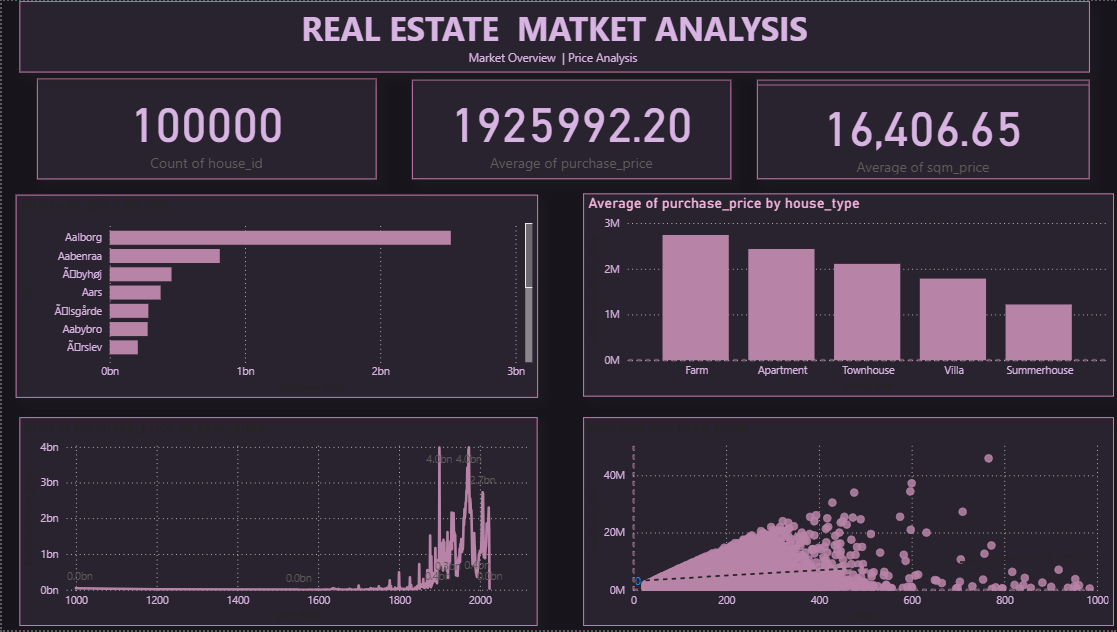

Layout of this report page (visuals, bound fields, positions):
{"tool":"powerbi","page":{"name":"Page 1","canvas":[1280,720],"ordinal":0},"visuals":[{"type":"card","fields":{"Values":["Count(Housing_Data.house_id)"]},"box":[40,88.3,388.3,115],"z":0},{"type":"card","fields":{"Values":["Avg(Housing_Data.purchase_price)"]},"box":[468.3,90,365,113.3],"z":1000},{"type":"card","fields":{"Values":["Avg(Housing_Data.sqm_price)"]},"box":[863.3,90,380,113.3],"z":2000},{"type":"clusteredBarChart","fields":{"Category":["Housing_Data.city"],"Y":["Sum(Housing_Data.purchase_price)"]},"box":[15,221.7,596.7,231.7],"z":3000},{"type":"clusteredColumnChart","fields":{"Category":["Housing_Data.house_type"],"Y":["Avg(Housing_Data.purchase_price)"]},"box":[665,220,606.7,231.7],"z":4000},{"type":"lineChart","fields":{"Category":["Housing_Data.year_build"],"Y":["Sum(Housing_Data.purchase_price)"]},"box":[20,475,591.7,238.3],"z":5000},{"type":"scatterChart","fields":{"Y":["Housing_Data.purchase_price"],"X":["Housing_Data.sqm"]},"box":[665,475,606.7,238.3],"z":6000},{"type":"textbox","box":[20,0,1223.3,81.7],"z":7000}]}

Visuals, with their boxes in screenshot pixels (x1, y1, x2, y2), scaled from the page's 1280x720 canvas onto the 1117x632 screenshot:
card - Count(Housing_Data.house_id): Rect(35, 78, 374, 178)
card - Avg(Housing_Data.purchase_price): Rect(409, 79, 727, 178)
card - Avg(Housing_Data.sqm_price): Rect(753, 79, 1085, 178)
clusteredBarChart - Housing_Data.city x Sum(Housing_Data.purchase_price): Rect(13, 195, 534, 398)
clusteredColumnChart - Housing_Data.house_type x Avg(Housing_Data.purchase_price): Rect(580, 193, 1110, 396)
lineChart - Housing_Data.year_build x Sum(Housing_Data.purchase_price): Rect(17, 417, 534, 626)
scatterChart - Housing_Data.purchase_price x Housing_Data.sqm: Rect(580, 417, 1110, 626)
textbox: Rect(17, 0, 1085, 72)
